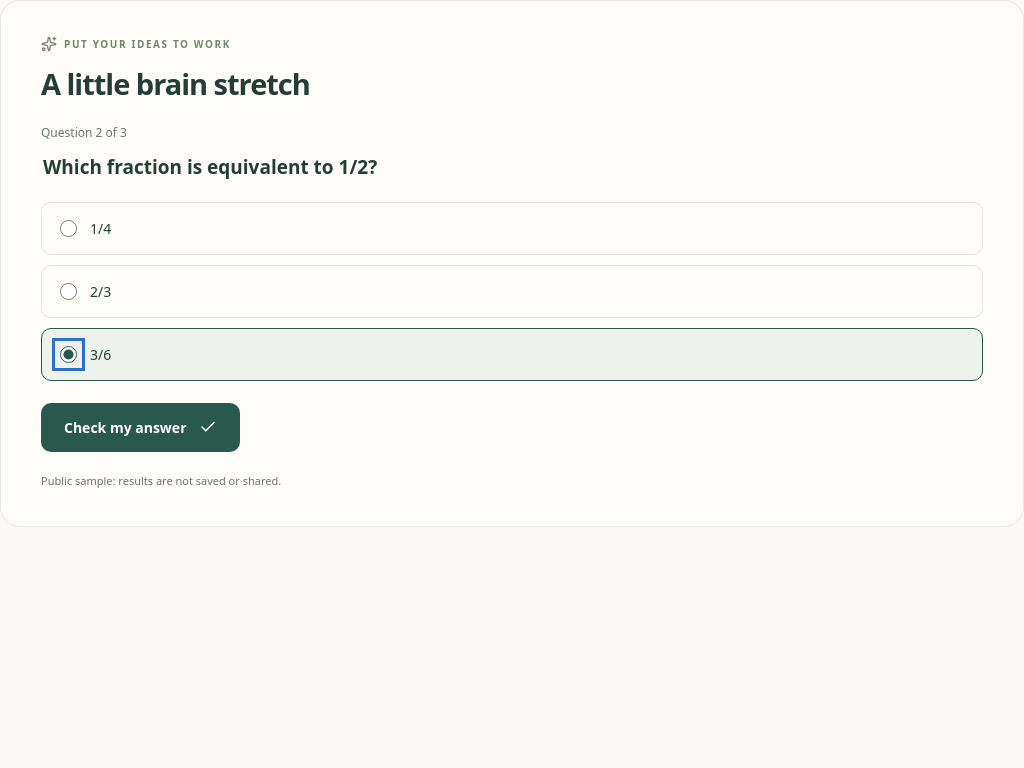
it: practice quiz › scores all Math answers once and resets the entire quiz on retry
The width and height of the screenshot is (1024, 768).
Earlier steps of the test are not shown.
Later steps or results of the test are not shown.
Click the button "Check my answer" at (140, 427), box [41,403,240,452]
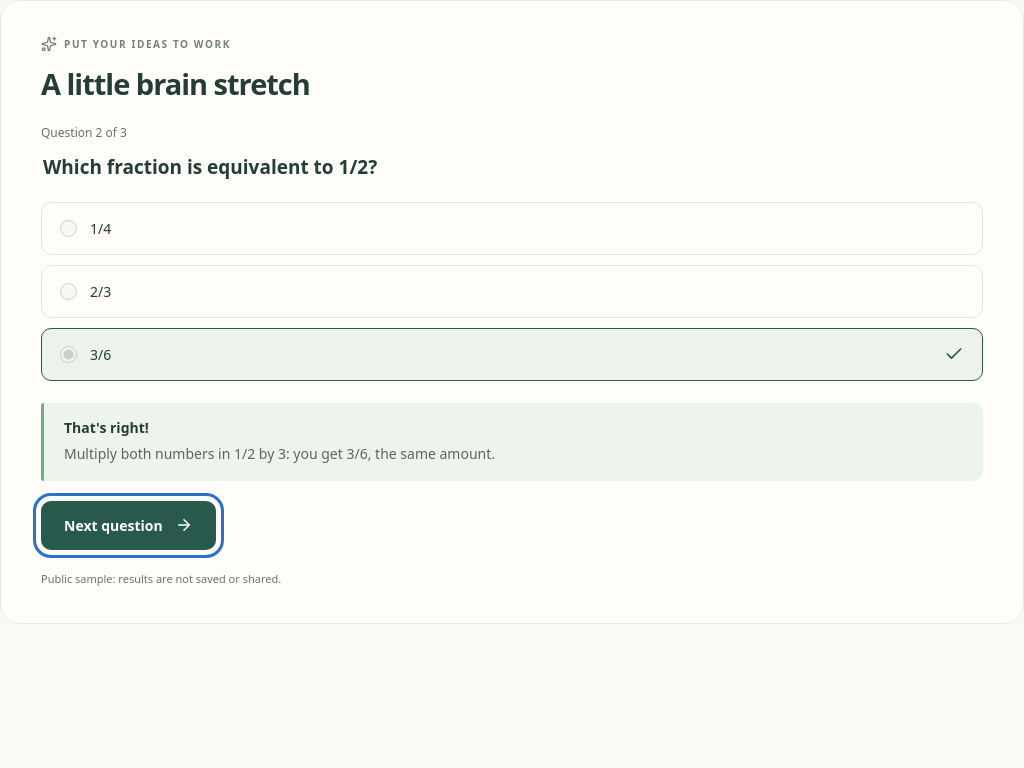
Expected: the message shows "That's right!", [64,418,149,437]
Click the button "Next question" at (128, 525), box [41,501,216,550]
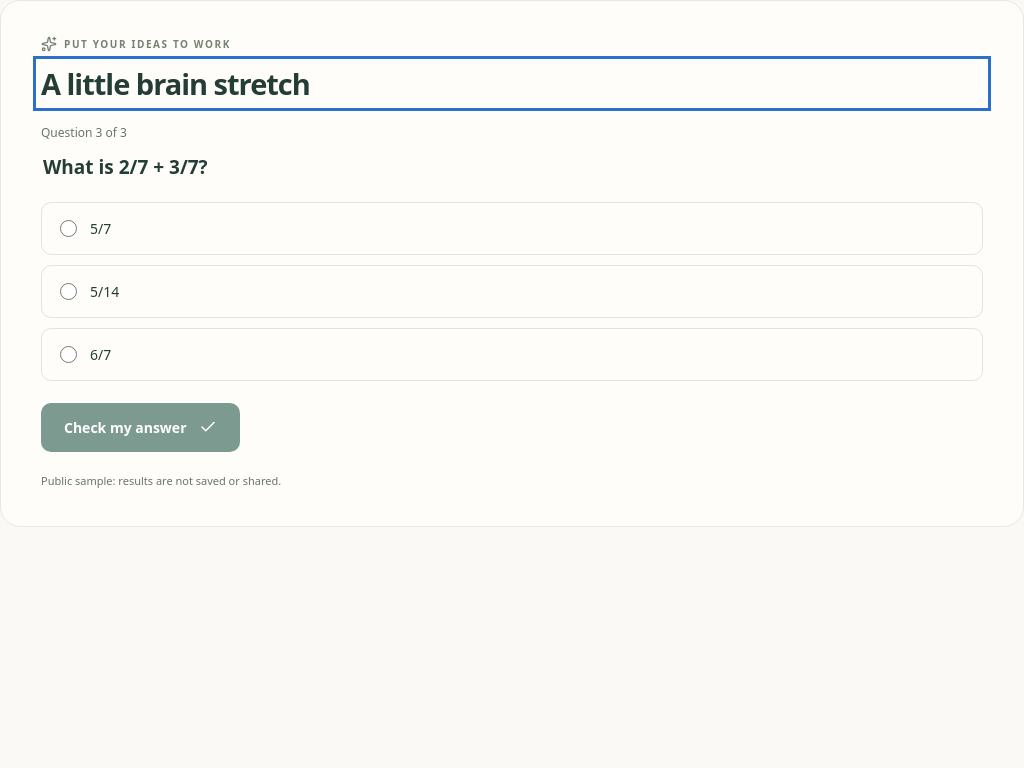
Click the radio button labelled "5/7" at (68, 228), box [60,220,77,237]
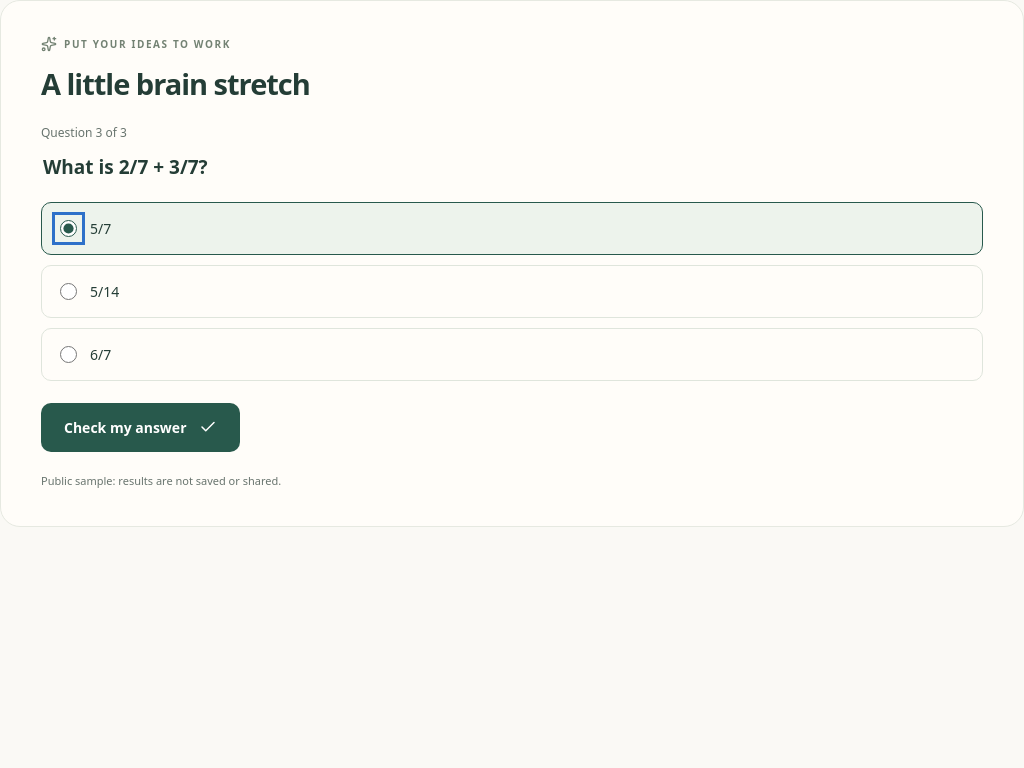
Click the button "Check my answer" at (140, 427), box [41,403,240,452]
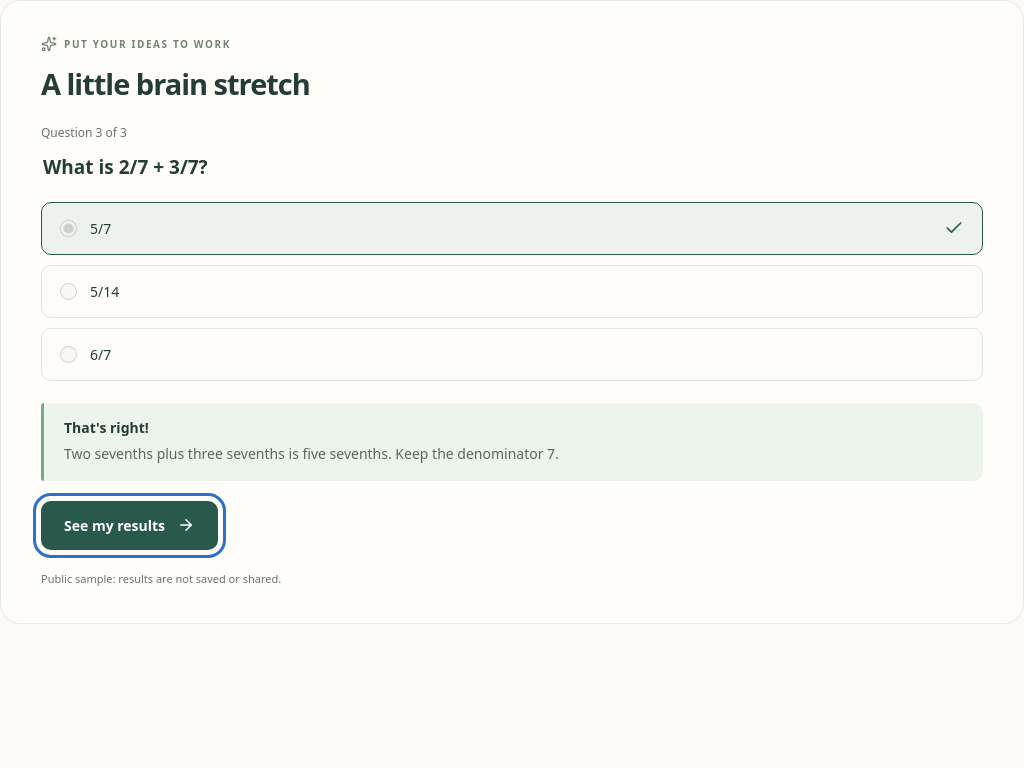
Expected: the message shows "That's right!", [64,418,149,437]
Click the button "See my results" at (130, 525), box [41,501,218,550]
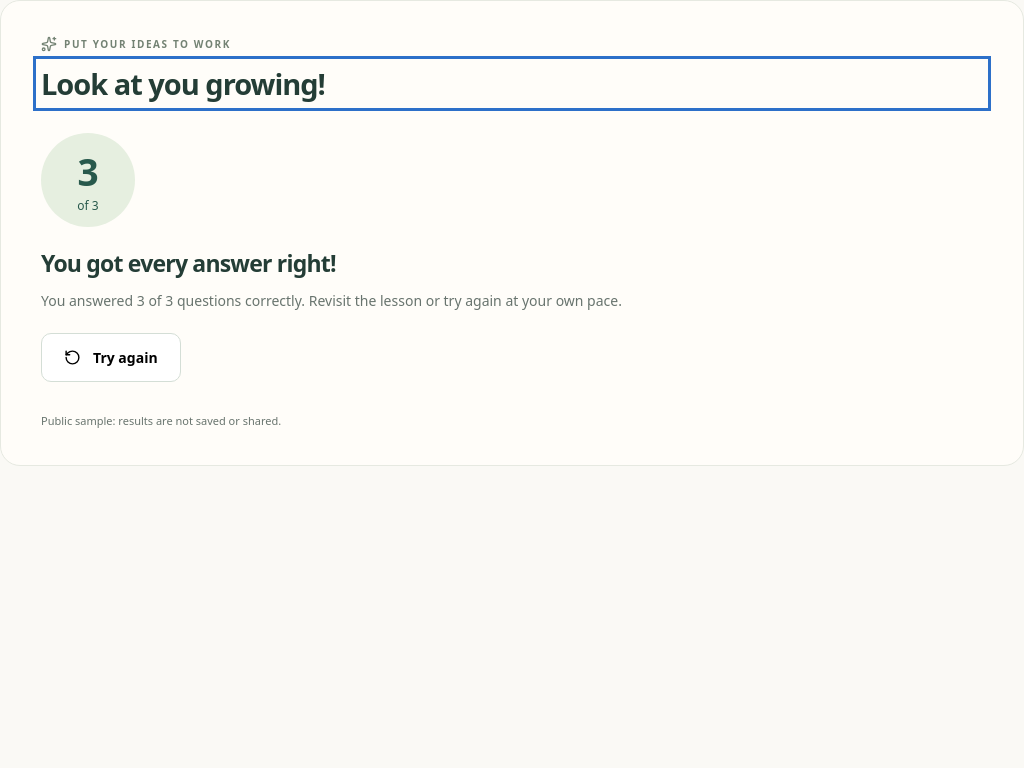
Expected: the text "Public sample: results are not saved or shared." is shown, [41,413,281,428]
Expected: the heading "You got every answer right!" is shown, [41,247,336,279]
Expected: the text "You answered 3 of 3" is shown, [41,291,622,310]
Click the button "Try again" at (111, 357), box [41,333,181,382]
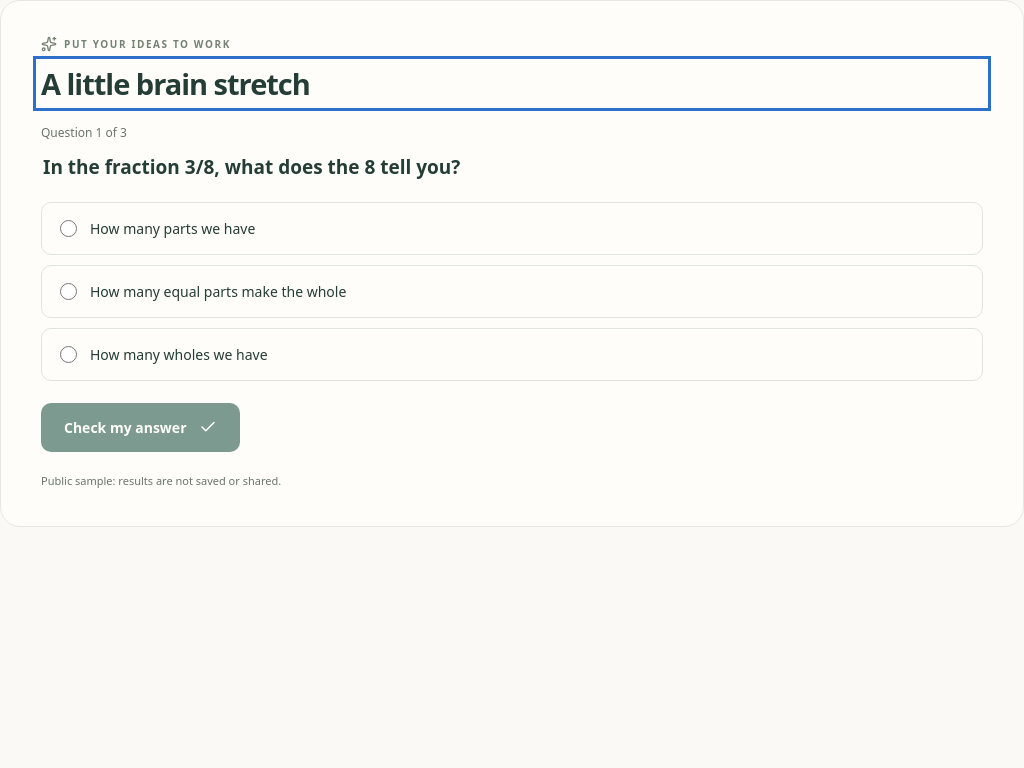
Expected: the text "Question 1 of 3" is shown, [41,124,127,141]
